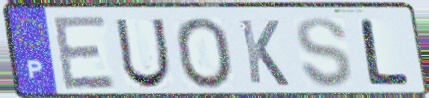E: (49, 14, 119, 94)
K: (236, 17, 292, 89)
L: (357, 17, 413, 87)
O: (172, 15, 236, 91)
S: (294, 15, 355, 90)
U: (112, 17, 173, 91)
